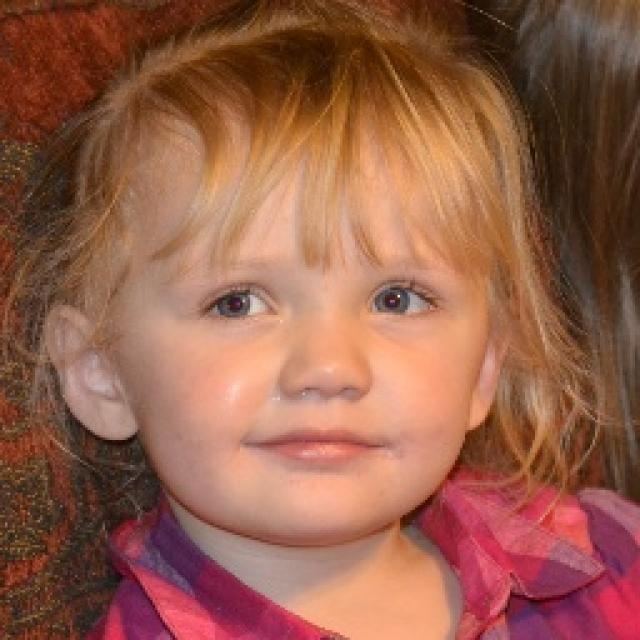earlobe: (86, 395, 134, 443), (470, 398, 496, 433)
eye: (203, 286, 278, 323), (364, 283, 436, 318)
nose: (286, 384, 369, 422)
wholeear: (42, 303, 134, 444), (468, 320, 511, 433)
